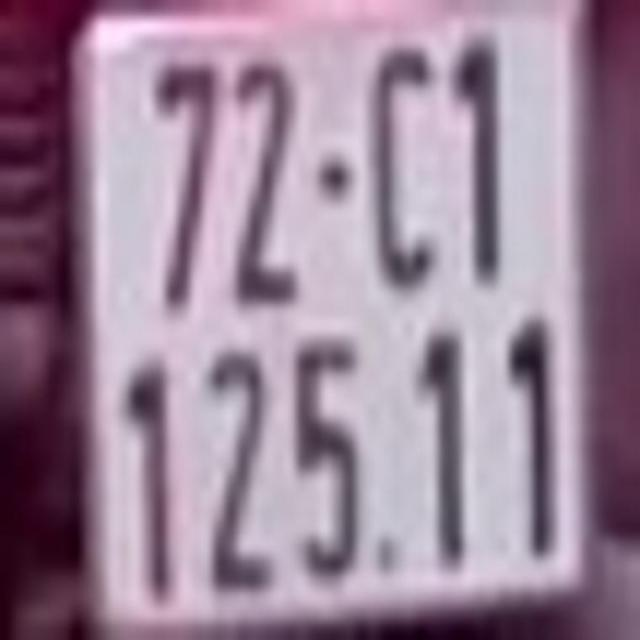1: (448, 25, 506, 281), (410, 310, 465, 570), (120, 342, 171, 598), (508, 314, 554, 557)
2: (209, 342, 274, 588), (234, 58, 297, 301)
5: (294, 338, 356, 570)
7: (148, 56, 218, 314)
C: (368, 41, 441, 281)
